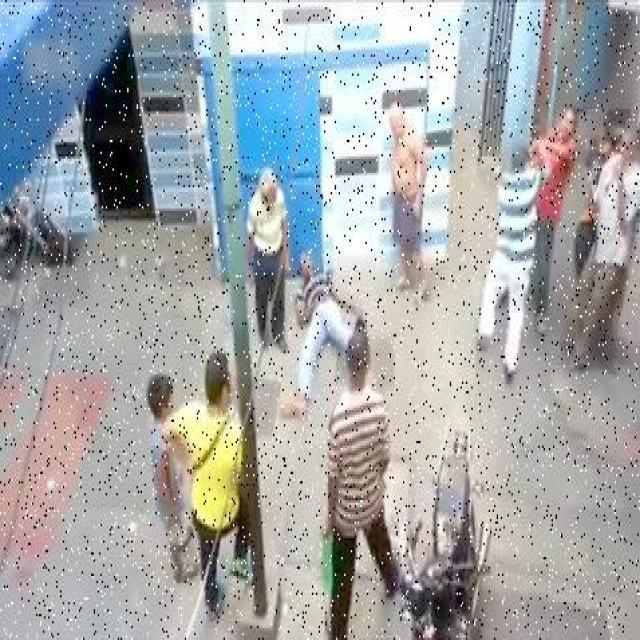fall: (286, 252, 366, 384)
